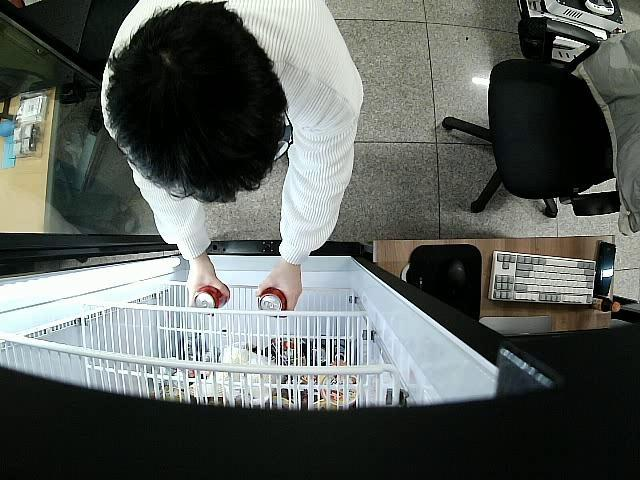11_cocaColaZero: (193, 282, 229, 313), (256, 286, 286, 314)
